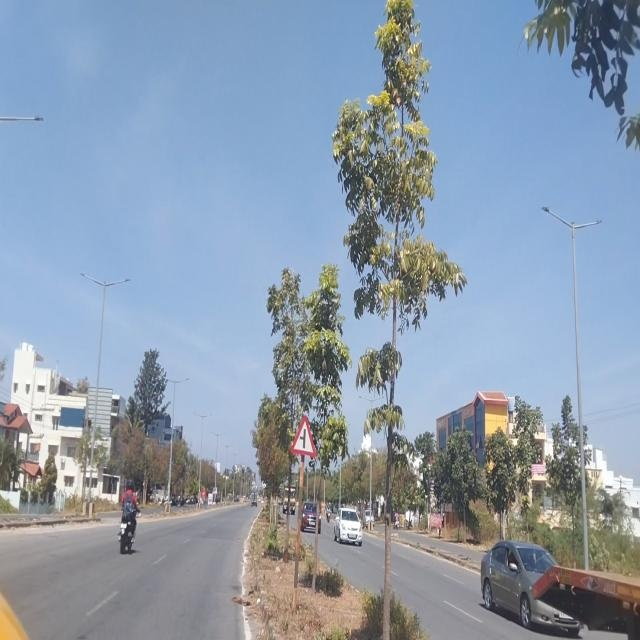bien_nguy_hiem: (289, 414, 317, 459)
